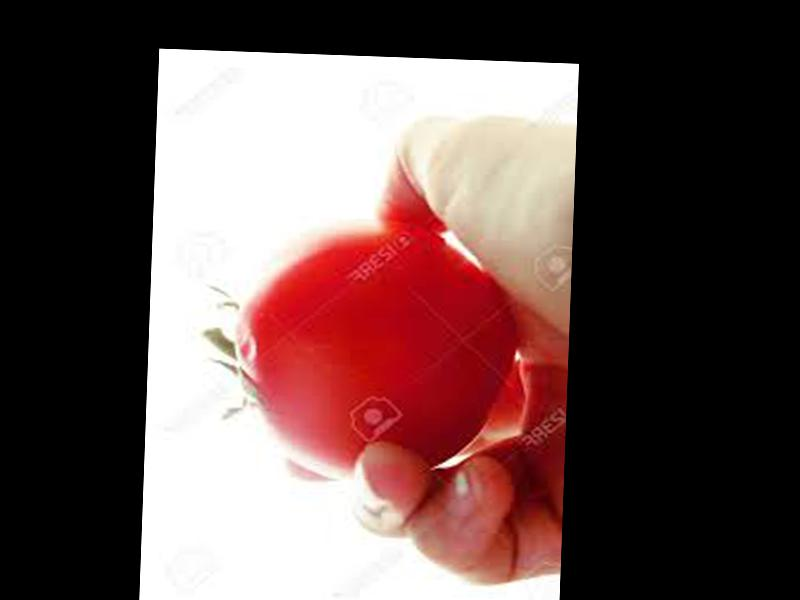Tomato: (226, 218, 515, 487)
